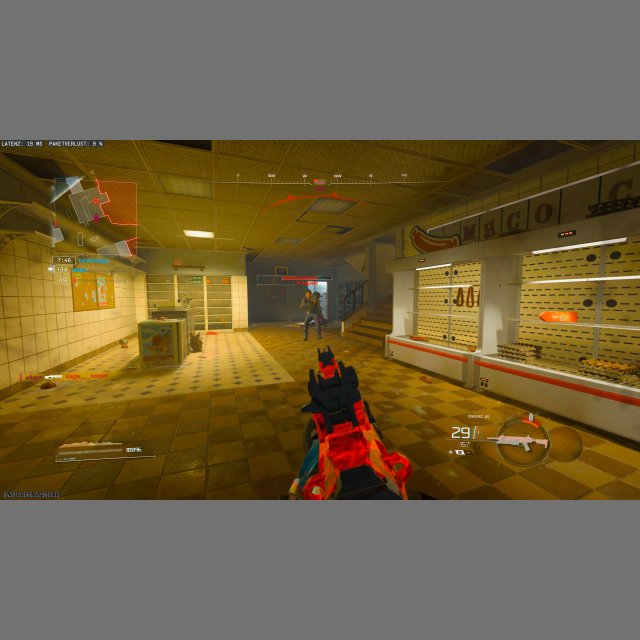head: (306, 290, 312, 298)
player: (300, 290, 323, 341)
